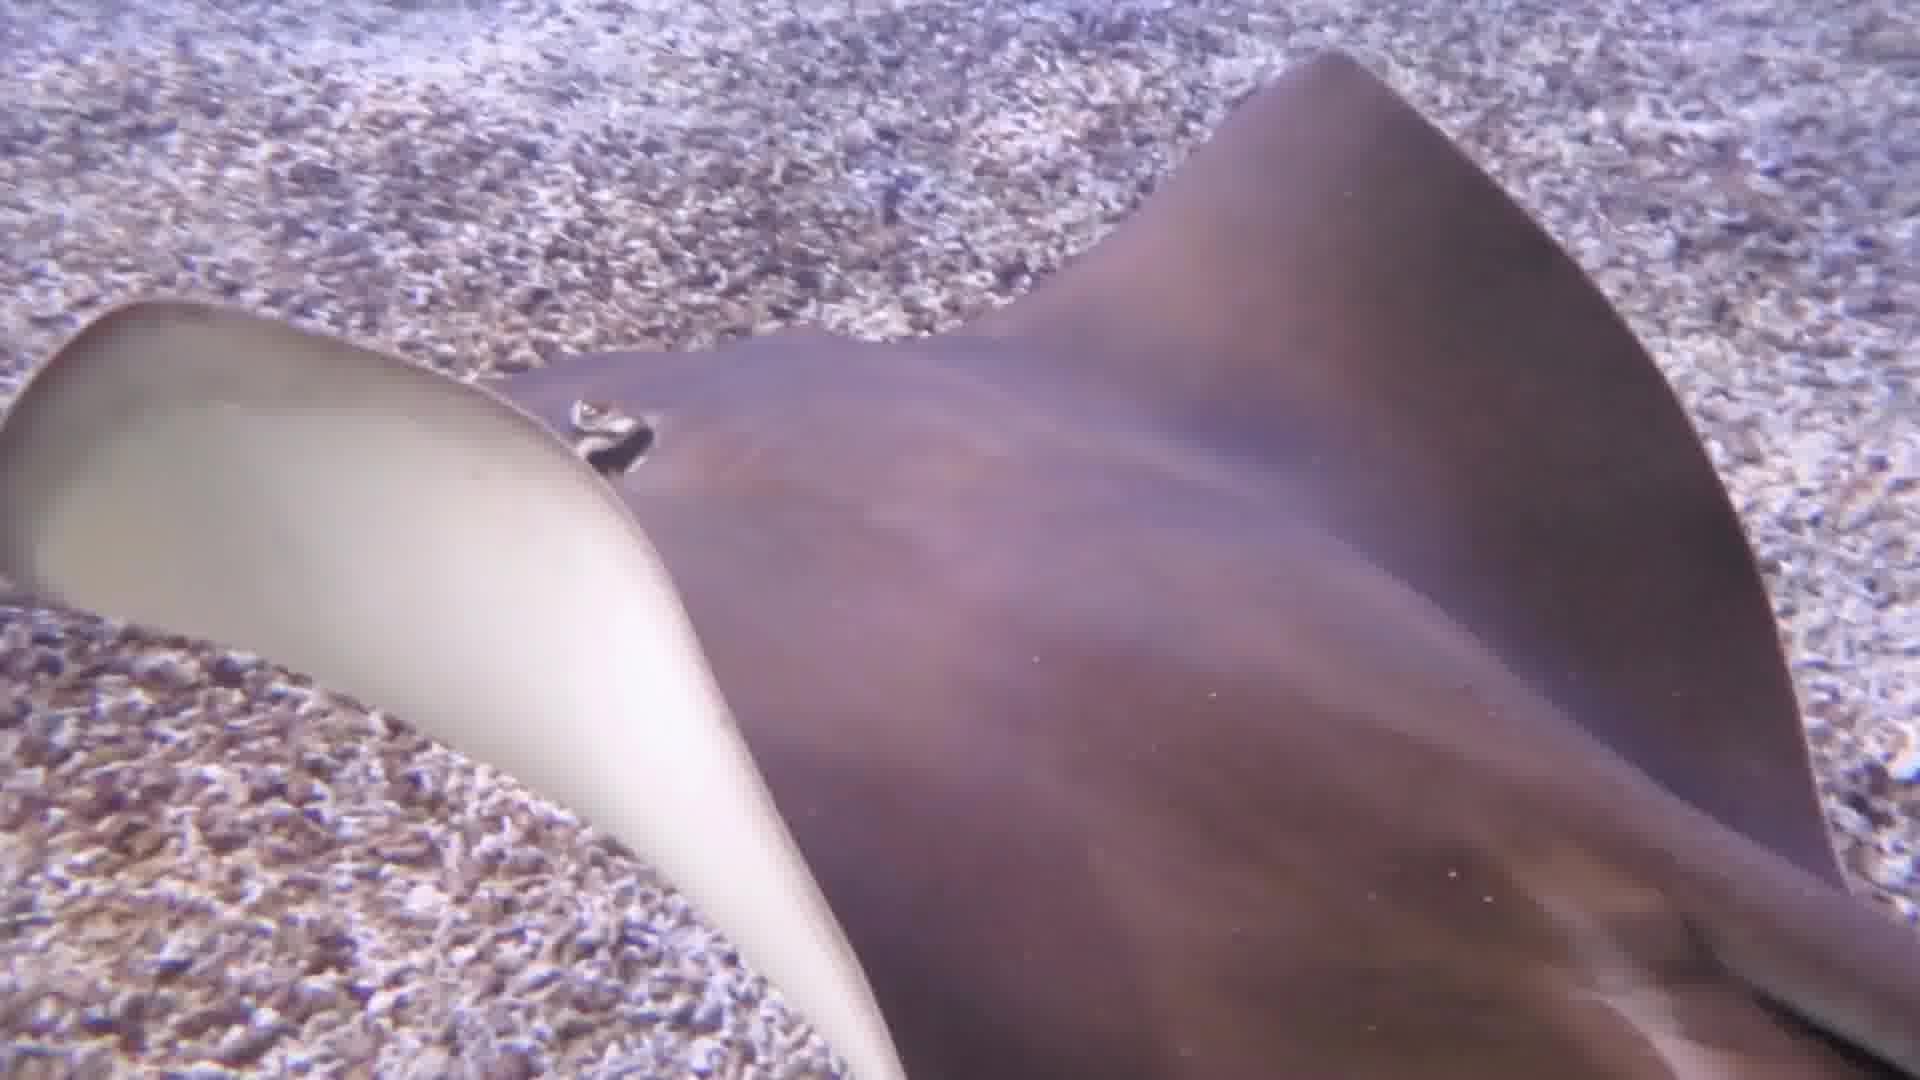Dasyatis akajei: (1, 44, 1920, 1080)
